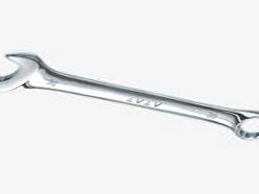Wrench: (1, 46, 259, 145)
